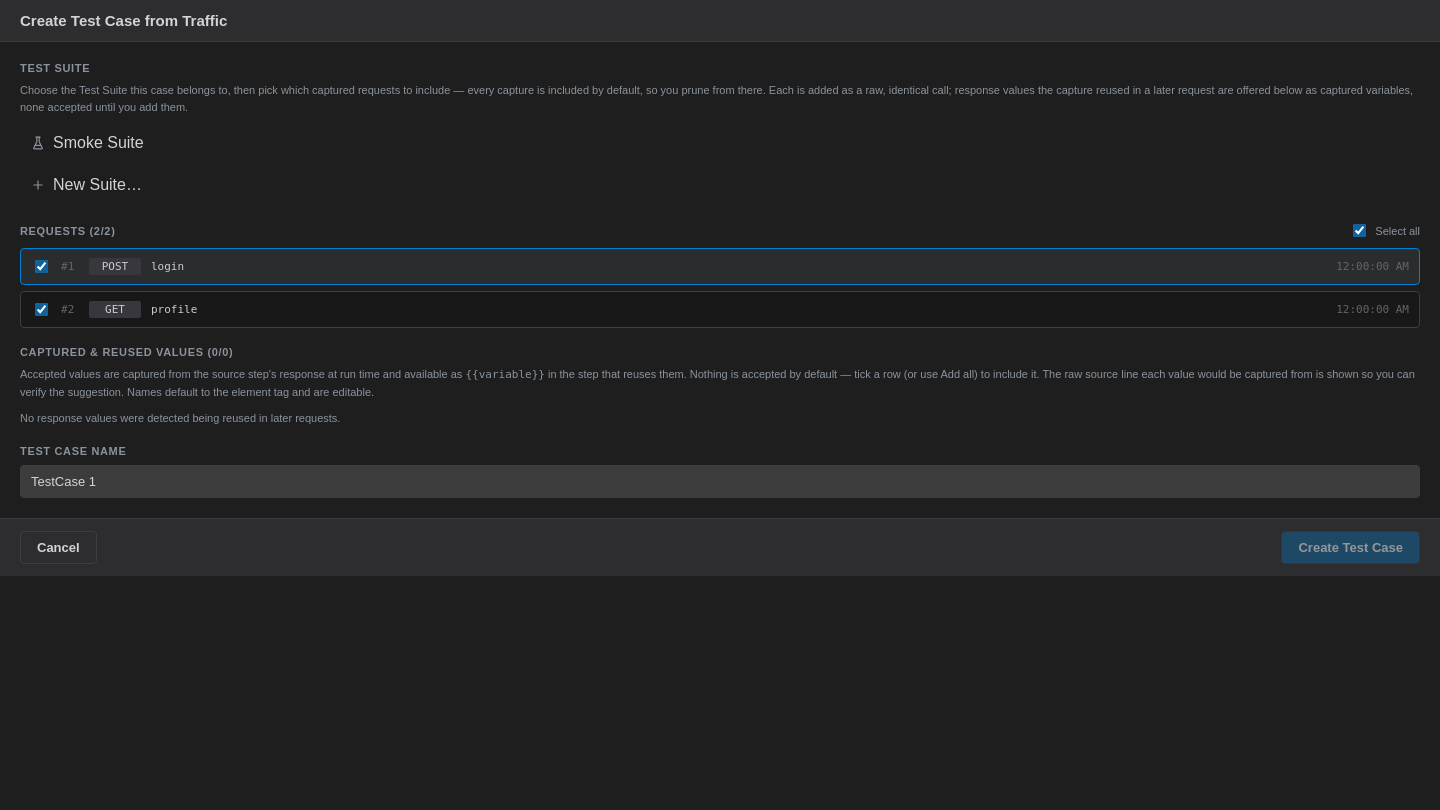
Test: CreateTestCaseFromTrafficWizard › supports select-all / select-none via the header checkbox
The image size is (1440, 810).
Click the button "Smoke Suite". click: (87, 142)
box: [31,134,144,151]
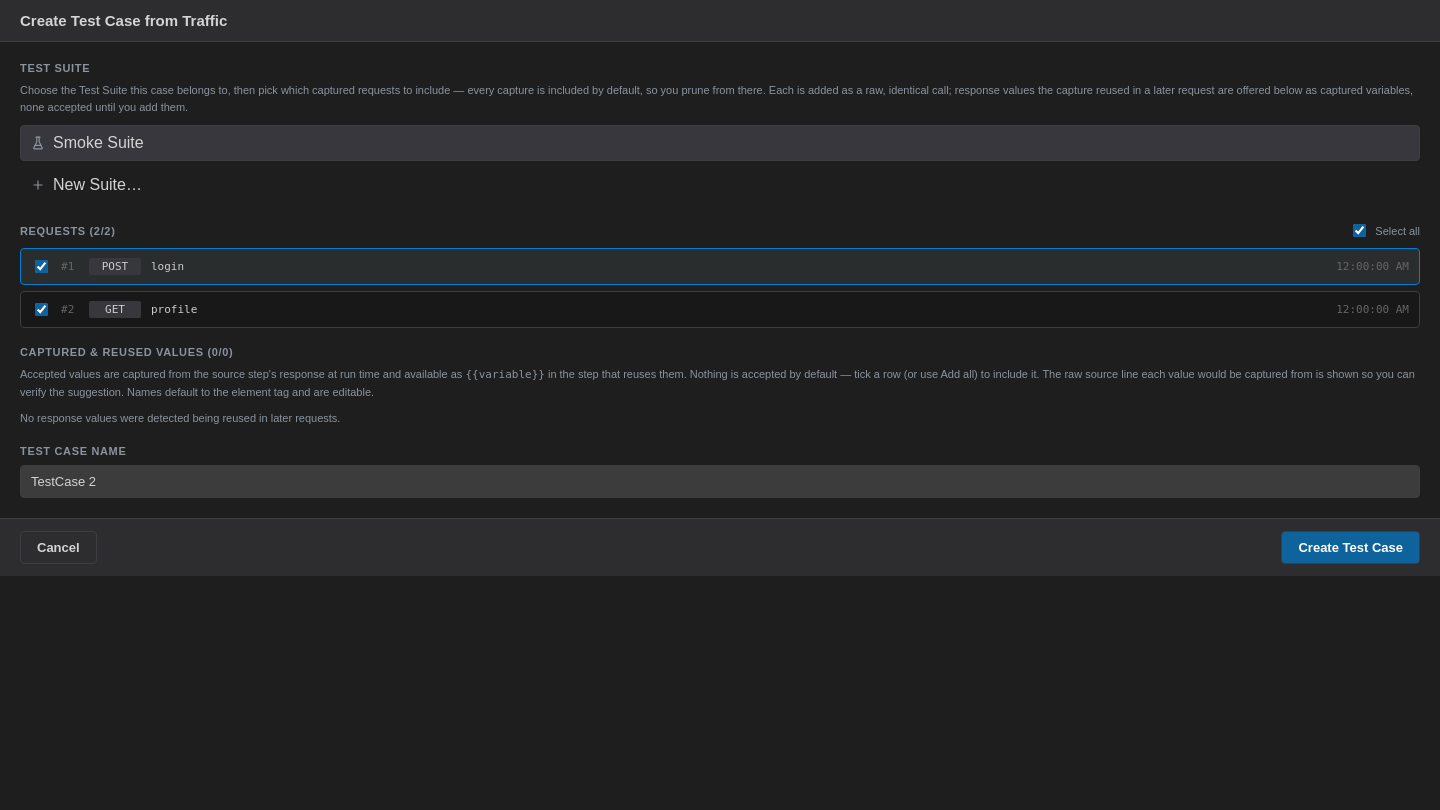
Click the checkbox named "Select all requests". click: (1360, 230)
box: [1353,224,1366,237]
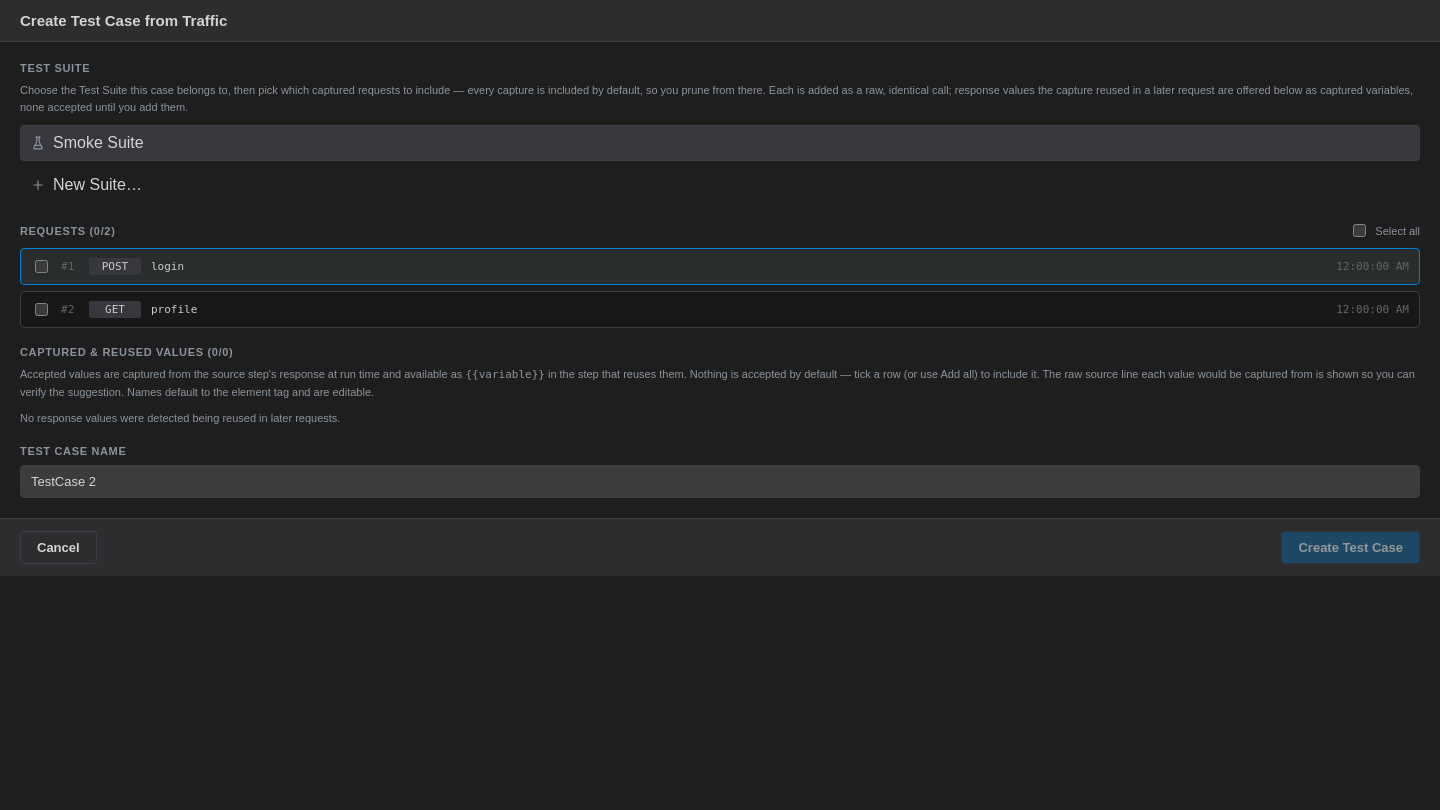
Check: the checkbox named "POST /login" is not checked, box [35,260,48,273]
Check: the button "Create Test Case" is disabled, box [1282,530,1420,564]
# Re-checking restores the full set.
Click the checkbox named "Select all requests". click: (1360, 230)
box: [1353,224,1366,237]
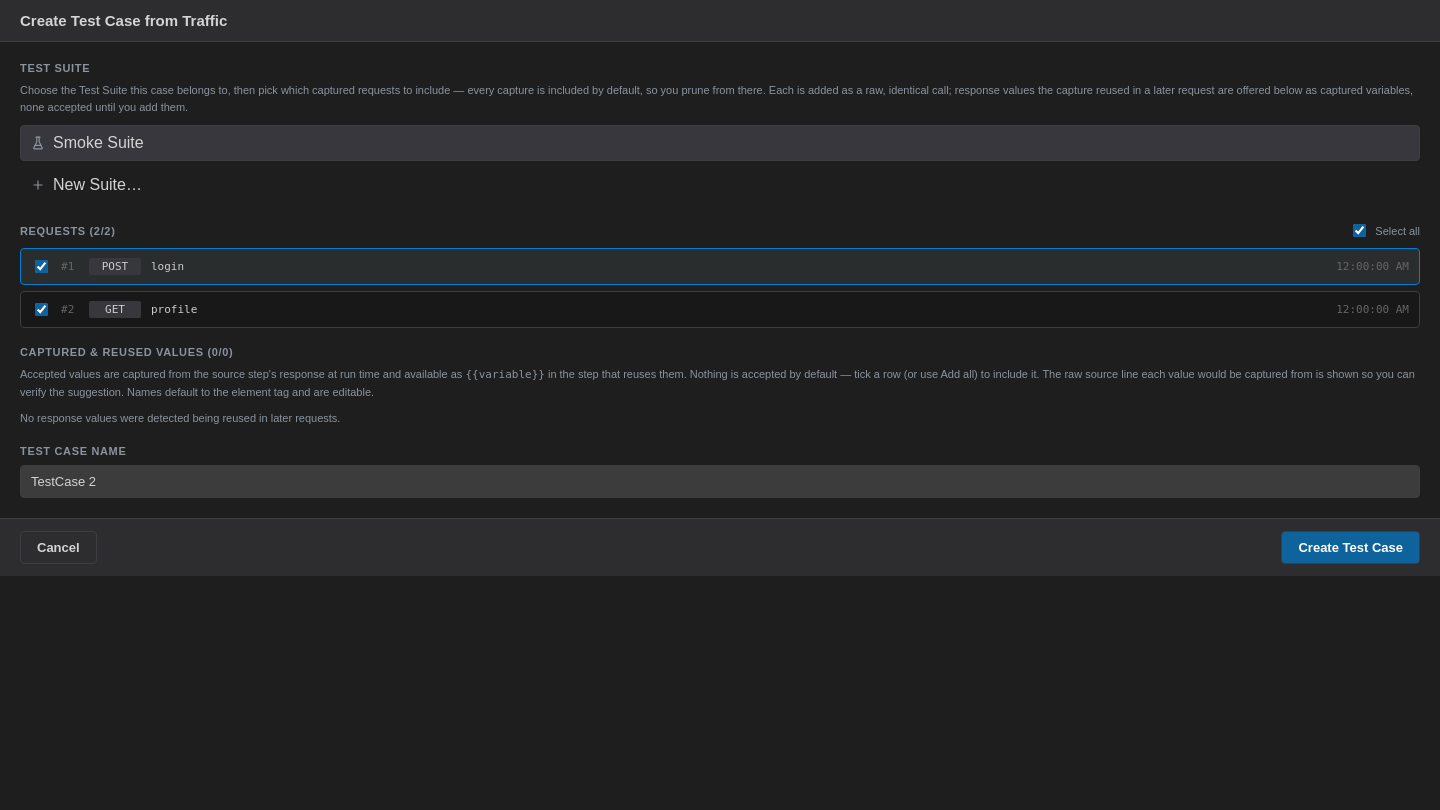
Check: the checkbox named "POST /login" is checked, box [35,260,48,273]
Check: the checkbox named "GET /users/profile" is checked, box [35,303,48,316]
